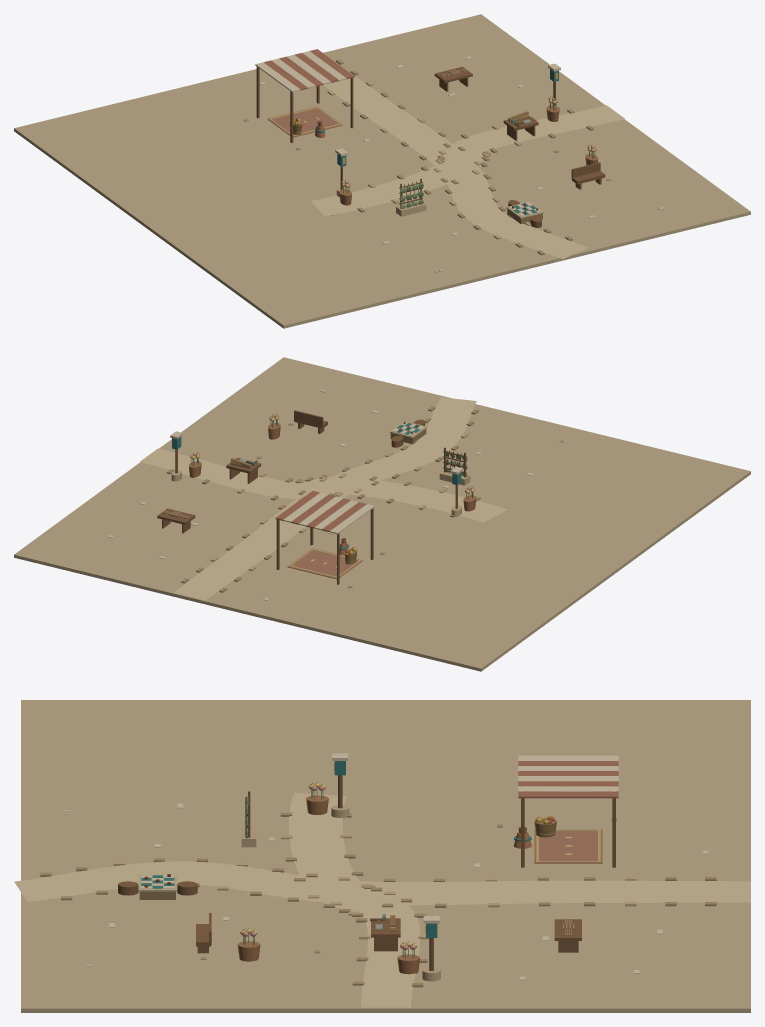
Rendered from city-lane-1.glb.
The picture shows the model from 3 angles, top to bottom: view 1: azimuth 30°, elevation 25°; view 2: azimuth 150°, elevation 25°; view 3: azimuth 270°, elevation 25°; orthographic projection. The views are drawn at different scales.
Parts seen in each view (by area): view 1: city-lane-1; view 2: city-lane-1; view 3: city-lane-1.
Boxes of the visible parts, x1,y1,x2,y2 form: city-lane-1: [14, 14, 750, 328]; city-lane-1: [14, 357, 750, 671]; city-lane-1: [14, 700, 750, 1012].
Bounding box in the file's own units: 32 × 3.66 × 32.3.
